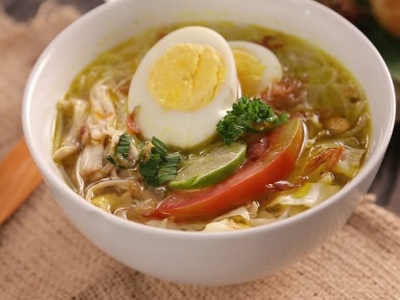soto: (81, 28, 350, 220)
